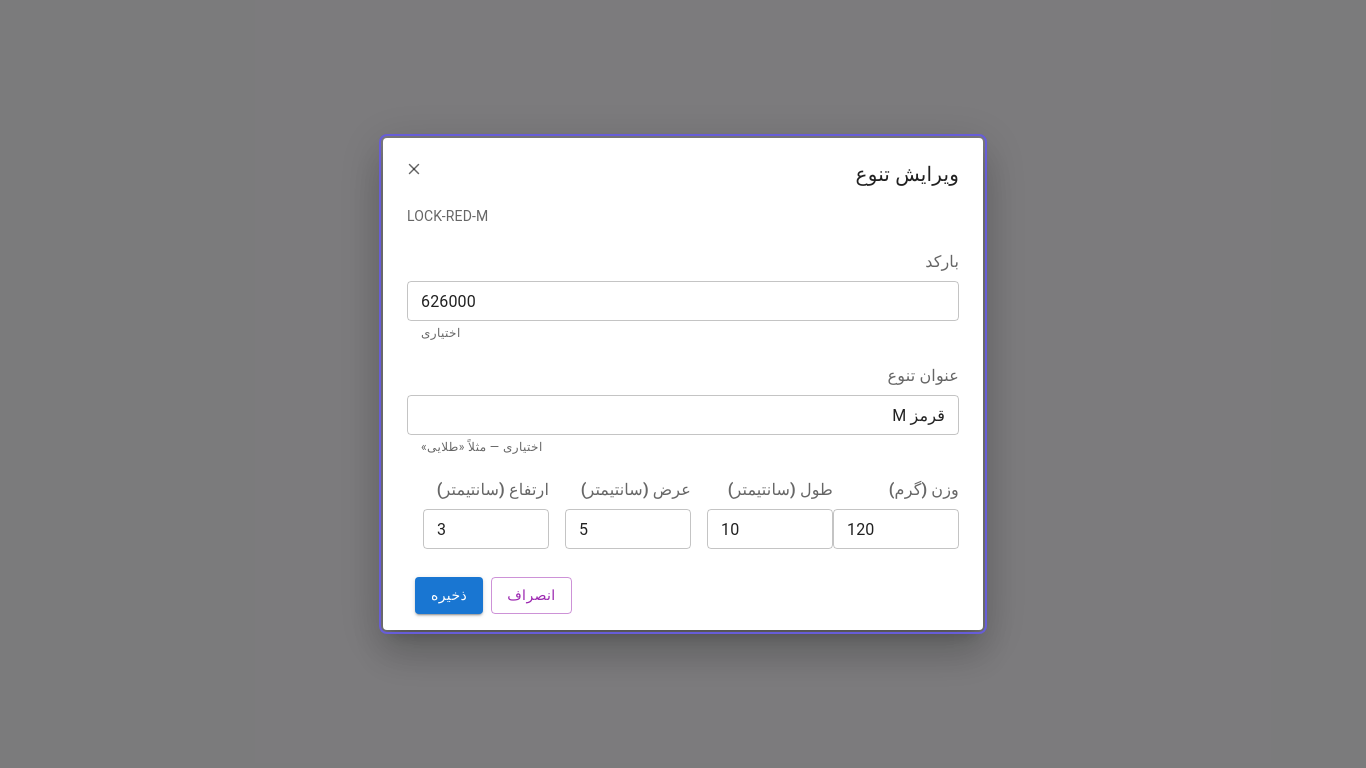
VariantEditDialog › sends changed fields with the expectedVersion and reports success
Replace the text in the field labelled "بارکد" with "626001" at (683, 301), box left=407, top=281, right=959, bottom=321
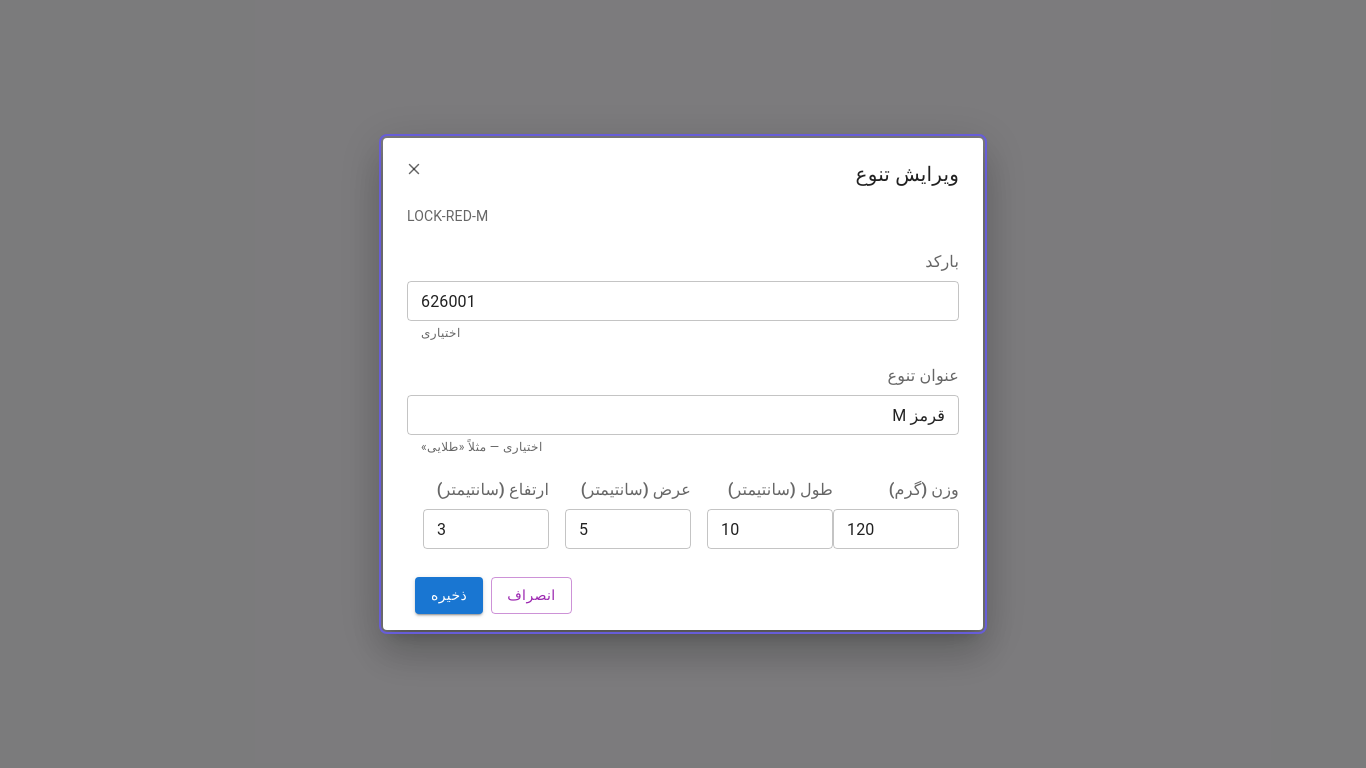
Replace the text in the field labelled "وزن (گرم)" with "130" at (896, 529), box left=833, top=509, right=959, bottom=549
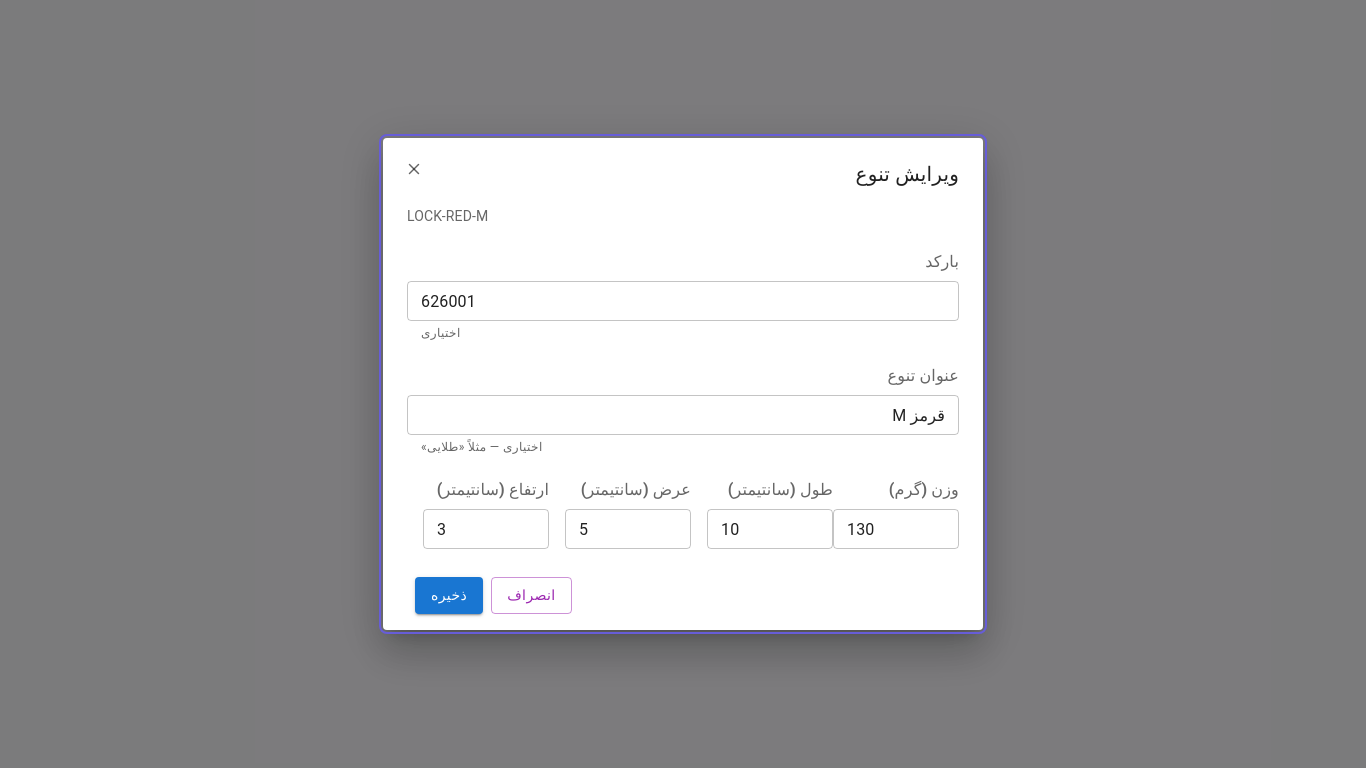
Click the button "ذخیره".
click(449, 595)  # box left=415, top=577, right=483, bottom=614
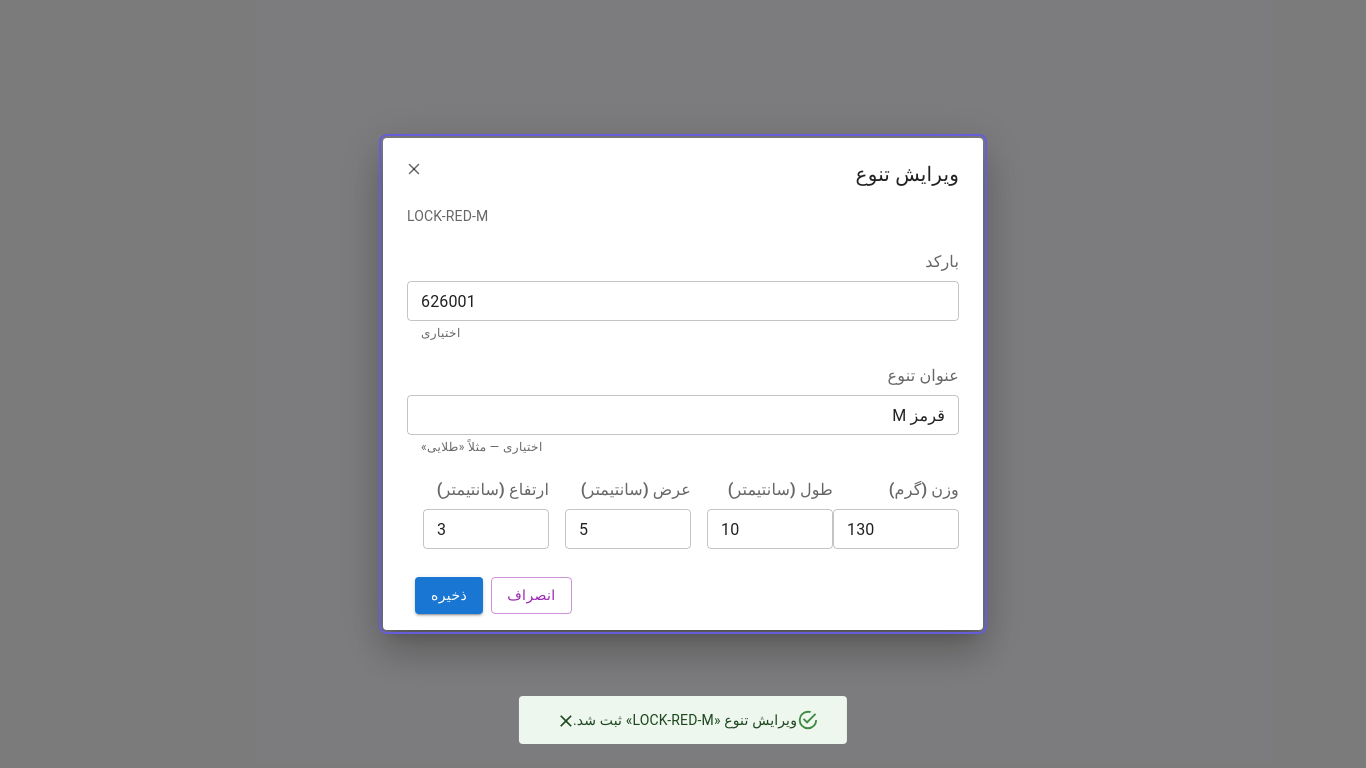
Expected: the text "ویرایش تنوع «LOCK-RED-M» ثبت شد." is shown, left=573, top=712, right=797, bottom=728
